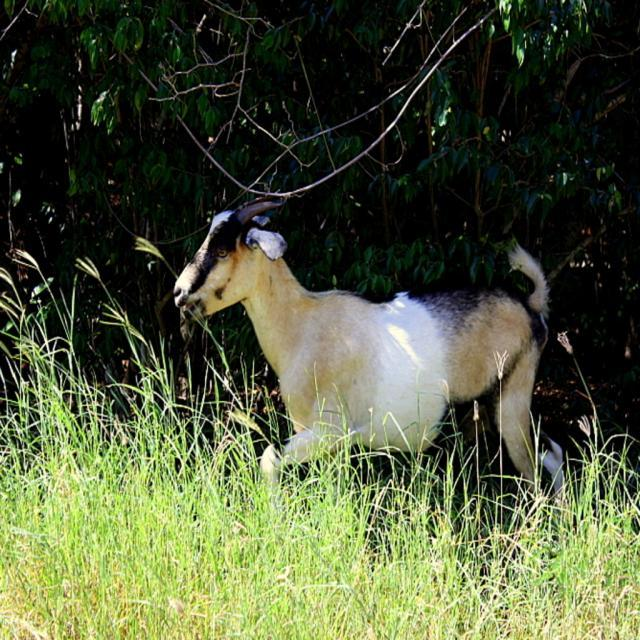Goat: (172, 193, 564, 511)
